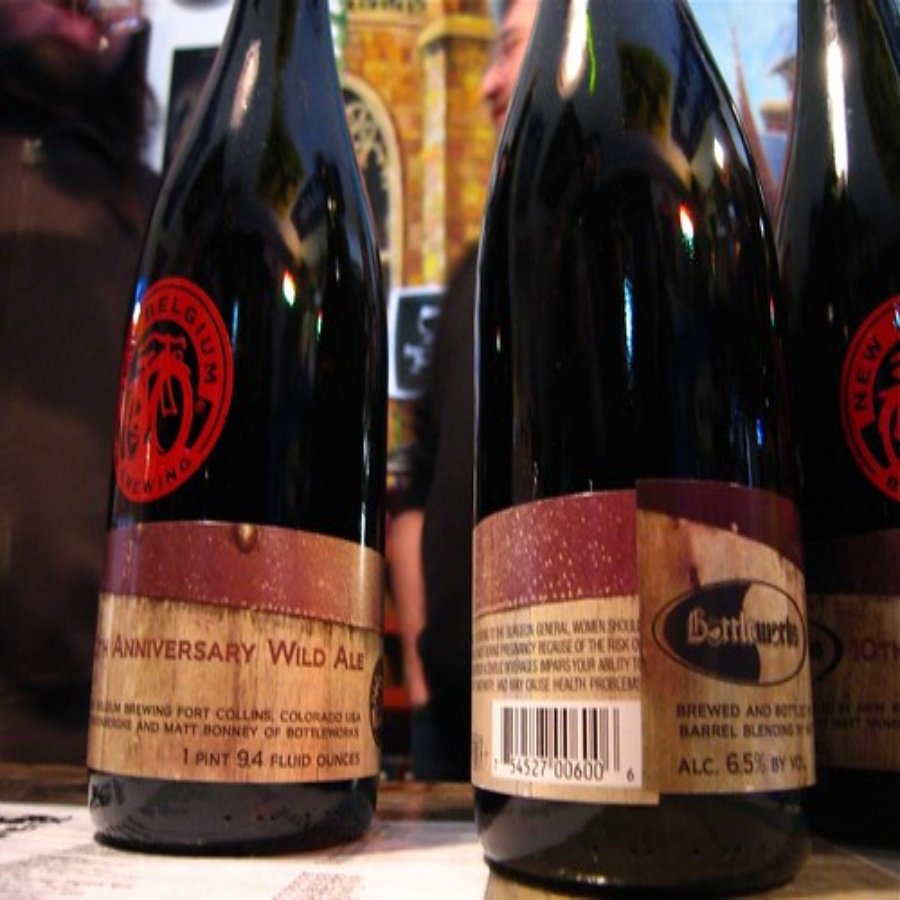beer: (478, 9, 822, 870), (72, 6, 397, 839)
